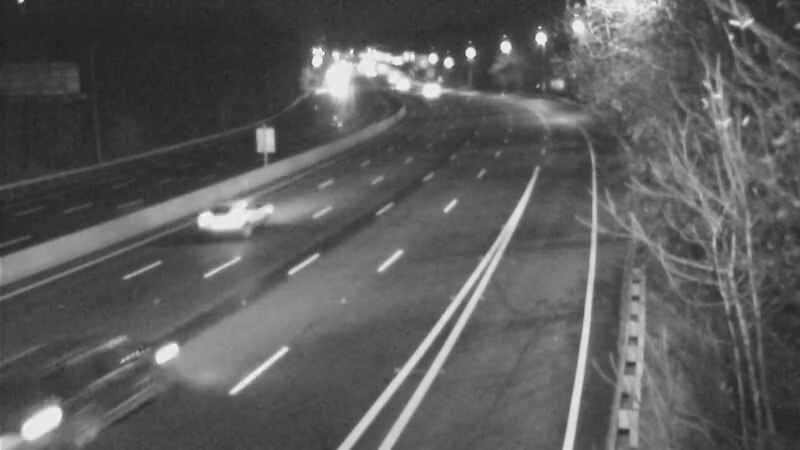vehicle: (28, 320, 138, 430), (178, 186, 258, 266), (404, 65, 454, 115), (314, 66, 364, 116)
